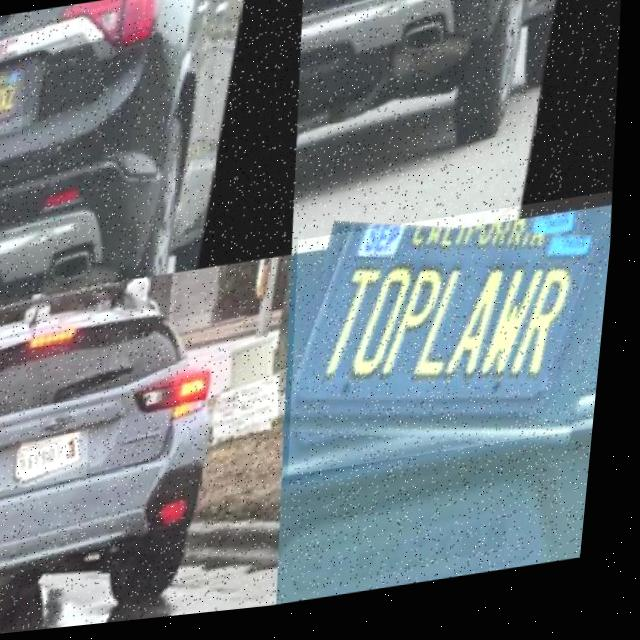LicensePlate: (285, 205, 621, 484), (31, 434, 97, 489), (0, 69, 30, 137), (303, 0, 373, 3)
